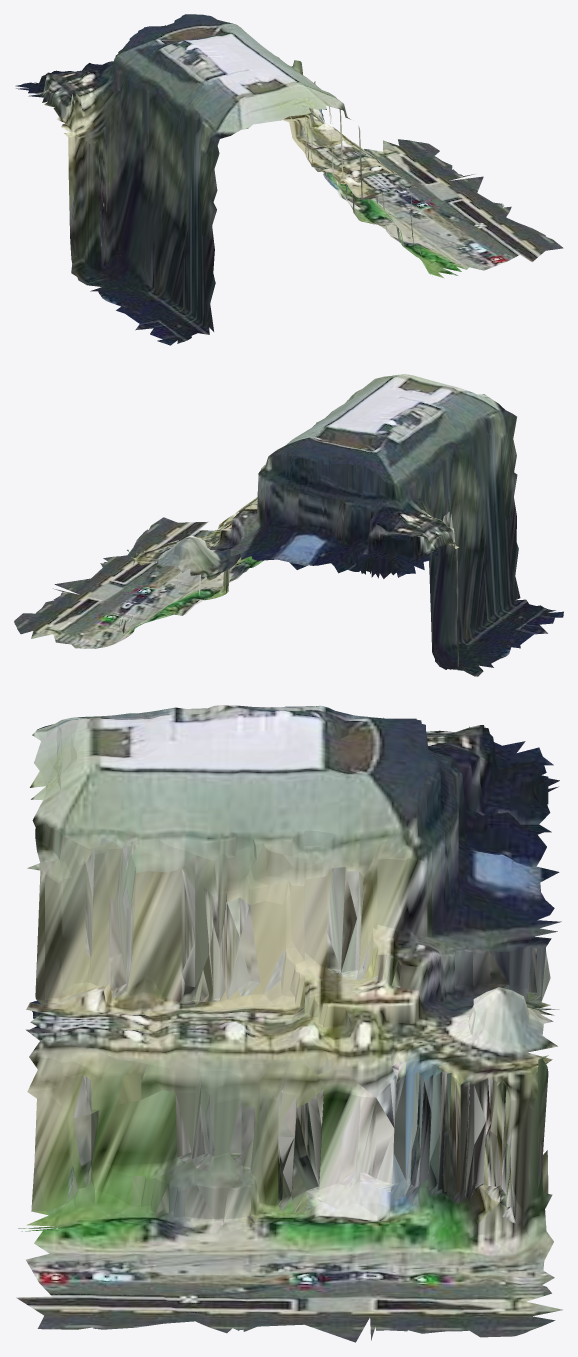
The model's file is Tile_000_002_L14_2443.glb.
3 renders of one model, top to bottom at view 1: azimuth 30°, elevation 25°; view 2: azimuth 150°, elevation 25°; view 3: azimuth 270°, elevation 25°, orthographic. The views are drawn at different scales.
Parts seen in each view (by area): view 1: rtc; view 2: rtc; view 3: rtc.
Part boxes in pixels (x1,y1,x2,y2): rtc: (15,14,563,345); rtc: (14,374,563,676); rtc: (16,705,562,1342).
Bounding box in the file's own units: 89.54 × 45.68 × 60.36.
Materials: 1 (1 with a texture image).
